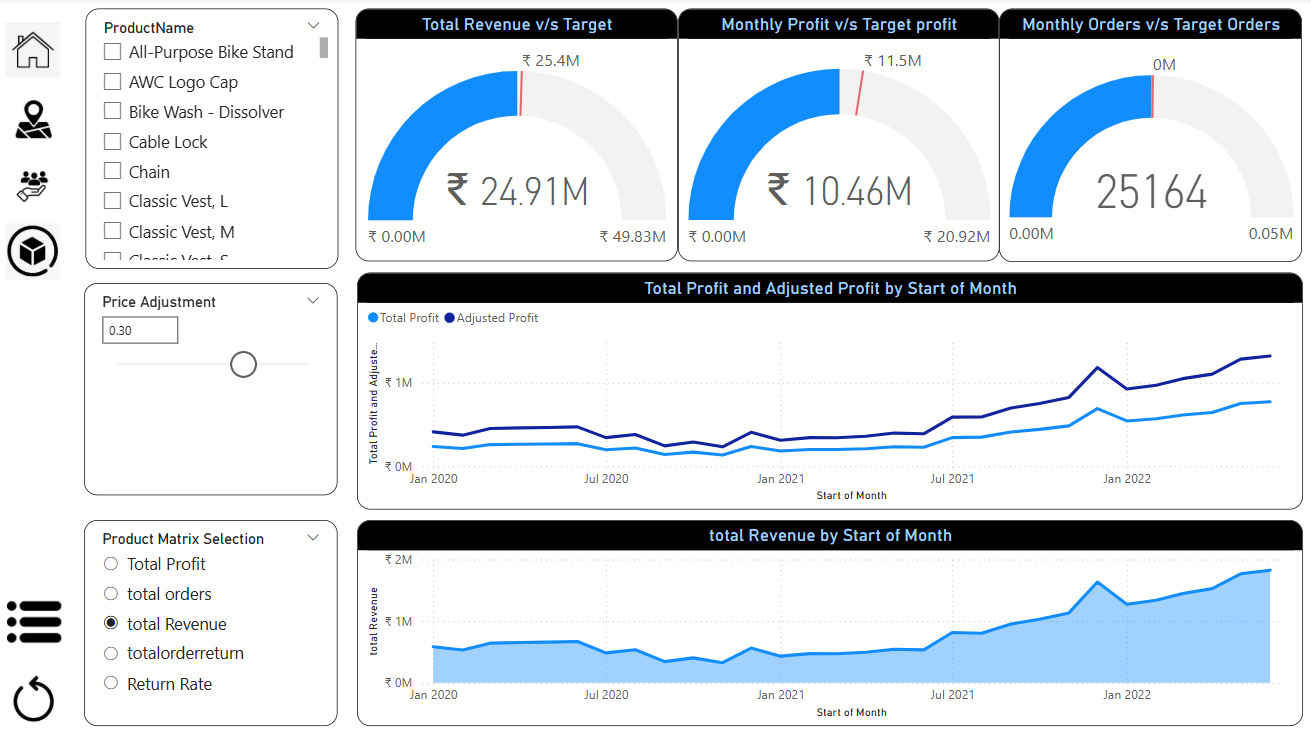

The page's visual inventory and layout, read from the dashboard file:
{"tool":"powerbi","page":{"name":"Product","canvas":[1280,720],"ordinal":4},"visuals":[{"type":"gauge","title":"Total Revenue v/s Target","fields":{"TargetValue":["Measure.Revenue Target"],"Y":["Measure.total Revenue"]},"box":[345,10,312.5,245],"z":0},{"type":"image","box":[0,17.9,63.4,65.1],"z":1000},{"type":"gauge","title":"Monthly Profit v/s Target profit","fields":{"TargetValue":["Measure.Profit Target"],"Y":["Measure.Total Profit"]},"box":[658,10,312,245],"z":2000},{"type":"image","box":[0,644.1,64.8,72.9],"z":3000},{"type":"gauge","title":"Monthly Orders v/s Target Orders","fields":{"TargetValue":["Measure.order Target"],"Y":["Measure.total orders"]},"box":[970,10,294,246],"z":4000},{"type":"image","box":[2,569.1,62.8,72.9],"z":5000},{"type":"lineChart","fields":{"Y":["Measure.Total Profit","Measure.Adjusted Profit"],"Category":["Calendar Lookup.Start of Month"]},"box":[346,266,918,230],"z":6000},{"type":"image","box":[0,212.7,62.8,66.8],"z":7000},{"type":"slicer","fields":{"Values":["Product Lookup.ProductName"]},"box":[82.5,10,245,252.5],"z":8000},{"type":"image","box":[0,83,64.8,68.9],"z":9000},{"type":"areaChart","fields":{"Y":["Measure.total Revenue"],"Category":["Calendar Lookup.Date Hierarchy.Start of Year","Calendar Lookup.Date Hierarchy.Start of Month","Calendar Lookup.Date Hierarchy.Date"]},"box":[346,506,918,200],"z":10000},{"type":"image","box":[0,151.9,62.8,60.8],"z":11000},{"type":"slicer","fields":{"Values":["Product Matrix Selection.Product Matrix Selection"]},"box":[82,506,246,200],"z":12000},{"type":"slicer","fields":{"Values":["Price Adjustment.Price Adjustment"]},"box":[82,276,246,206],"z":13000}]}

Visuals, with their boxes on the page's 1280x720 design canvas (x1, y1, x2, y2). These are canvas units, not pixel positions in the 1311x734 screenshot, which may show the page scaled, cropped or inside an application window:
"Total Revenue v/s Target" gauge: {"x1": 345, "y1": 10, "x2": 658, "y2": 255}
image: {"x1": 0, "y1": 18, "x2": 63, "y2": 83}
"Monthly Profit v/s Target profit" gauge: {"x1": 658, "y1": 10, "x2": 970, "y2": 255}
image: {"x1": 0, "y1": 644, "x2": 65, "y2": 717}
"Monthly Orders v/s Target Orders" gauge: {"x1": 970, "y1": 10, "x2": 1264, "y2": 256}
image: {"x1": 2, "y1": 569, "x2": 65, "y2": 642}
lineChart - Measure.Total Profit x Measure.Adjusted Profit: {"x1": 346, "y1": 266, "x2": 1264, "y2": 496}
image: {"x1": 0, "y1": 213, "x2": 63, "y2": 280}
slicer - Product Lookup.ProductName: {"x1": 82, "y1": 10, "x2": 328, "y2": 262}
image: {"x1": 0, "y1": 83, "x2": 65, "y2": 152}
areaChart - Measure.total Revenue x Calendar Lookup.Date Hierarchy.Start of Year: {"x1": 346, "y1": 506, "x2": 1264, "y2": 706}
image: {"x1": 0, "y1": 152, "x2": 63, "y2": 213}
slicer - Product Matrix Selection.Product Matrix Selection: {"x1": 82, "y1": 506, "x2": 328, "y2": 706}
slicer - Price Adjustment.Price Adjustment: {"x1": 82, "y1": 276, "x2": 328, "y2": 482}
